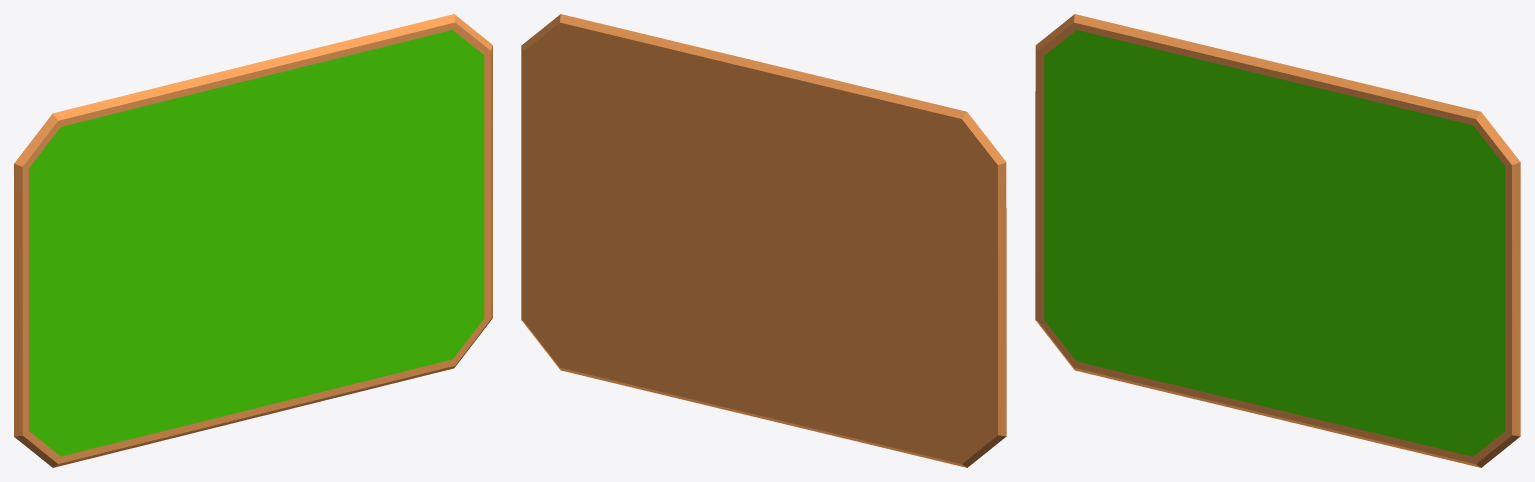
File: Runwall1.fbx
3 views of the same model, side by side, from view 1: azimuth 30°, elevation 25°; view 2: azimuth 150°, elevation 25°; view 3: azimuth 330°, elevation 25° (orthographic).
Parts seen in each view (by area): view 1: PolyShape__9_.001, PolyShape__9_; view 2: PolyShape__9_; view 3: PolyShape__9_.001, PolyShape__9_.
Part boxes in pixels (x1,y1,x2,y2): PolyShape__9_.001: (29,30,484,456); PolyShape__9_: (14,14,492,467); PolyShape__9_: (521,14,1006,467); PolyShape__9_.001: (1044,30,1505,456); PolyShape__9_: (1035,14,1520,467).
Bounding box in the file's own units: 44 × 31 × 1.29.
